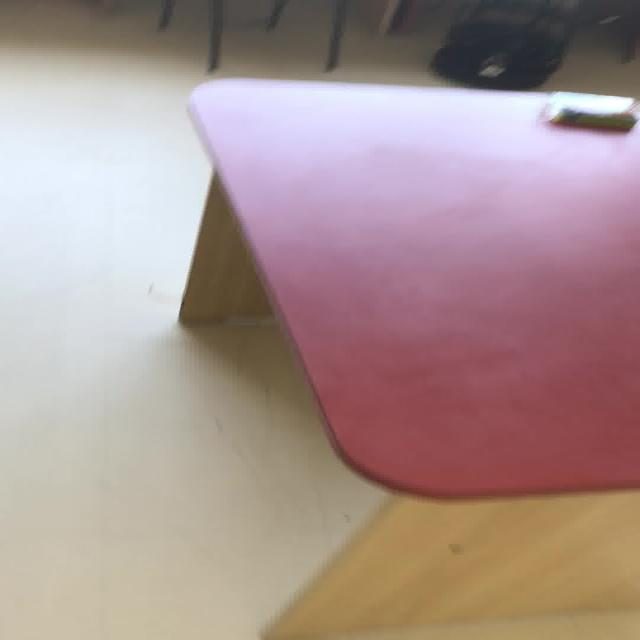sponge: (183, 76, 638, 497), (543, 90, 636, 129)
